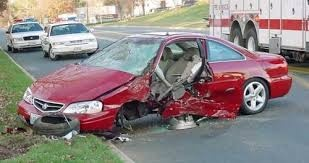Scratch: (175, 93, 221, 114)
Smashed: (114, 38, 228, 127)
